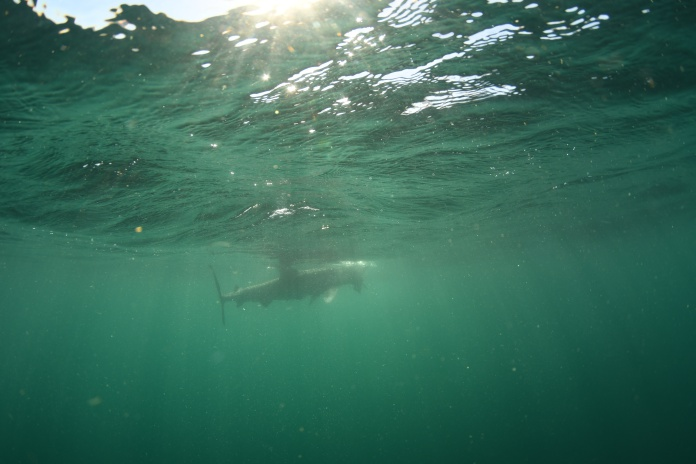Mako: (199, 247, 384, 321)
